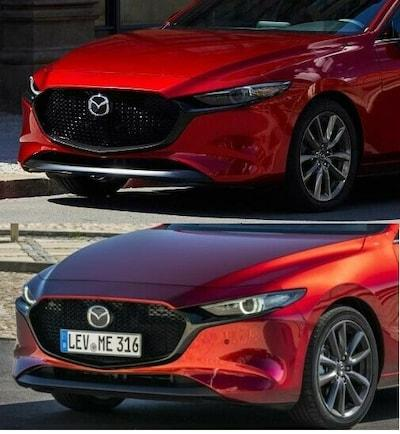license-plates: (60, 330, 142, 356)
